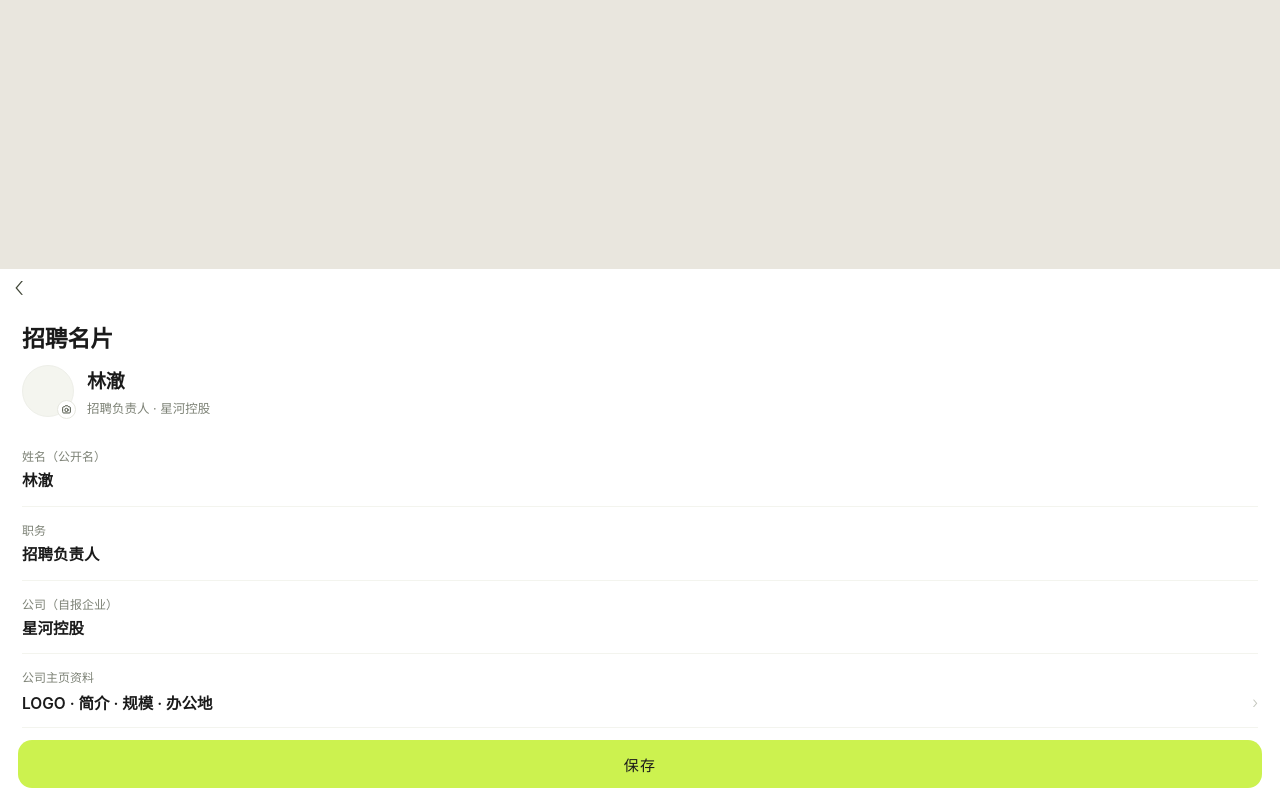
招聘名片 · Backend 诚实身份 › 保存一次携带 public_name、title 与自报 organization_ref，成功响应后才提示保存成功
(page scrolled)
Replace the text in the field named "姓名" with "新公开名" at (640, 481), box left=22, top=470, right=1258, bottom=492
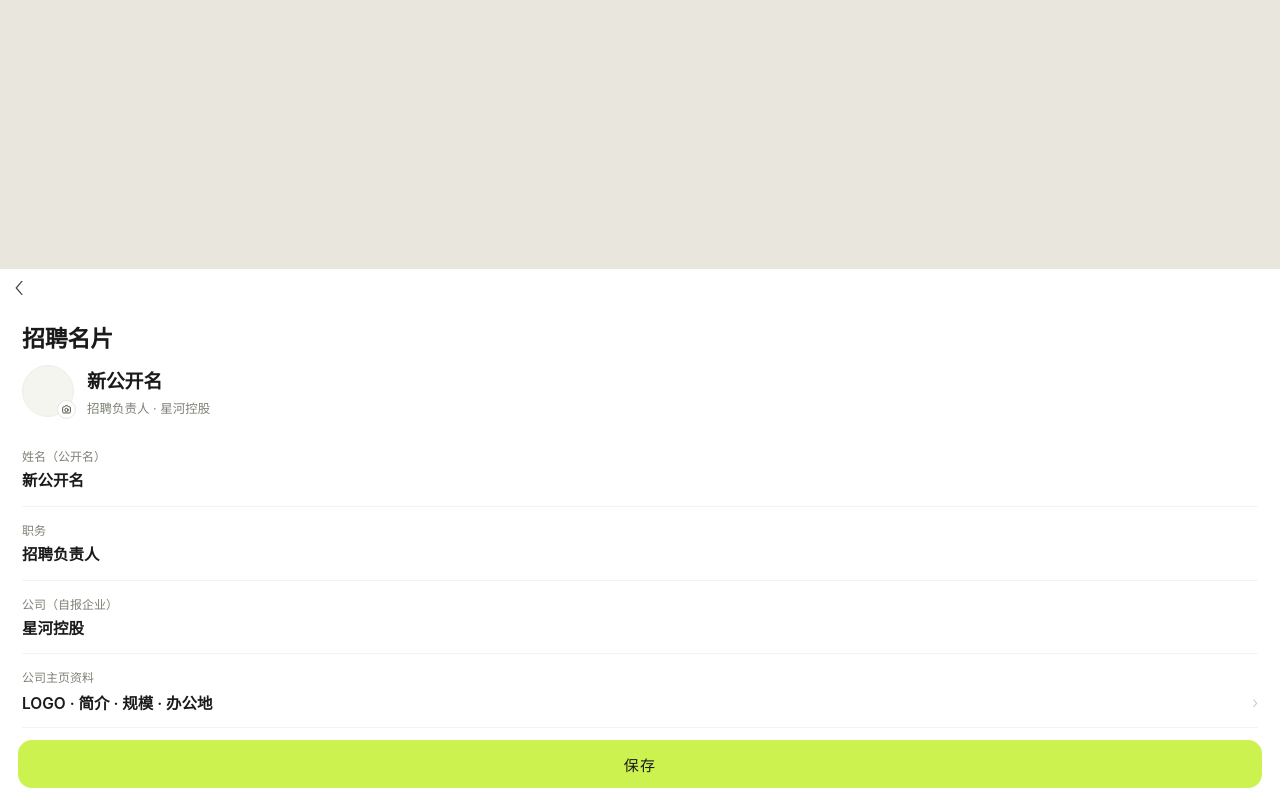
Clear the field named "职务" at (640, 555), box left=22, top=544, right=1258, bottom=566
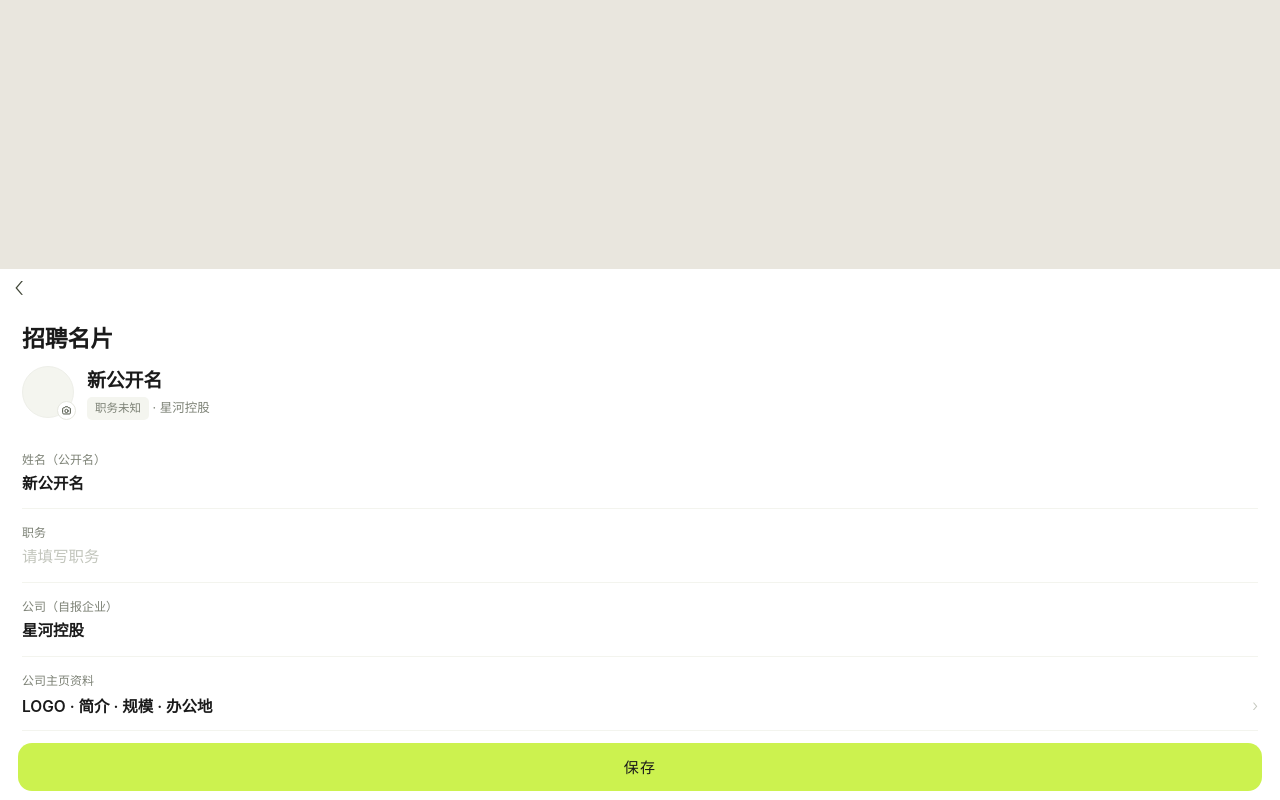
Type "技术合伙人" into the field labelled "职务" at (640, 557), box left=22, top=546, right=1258, bottom=568
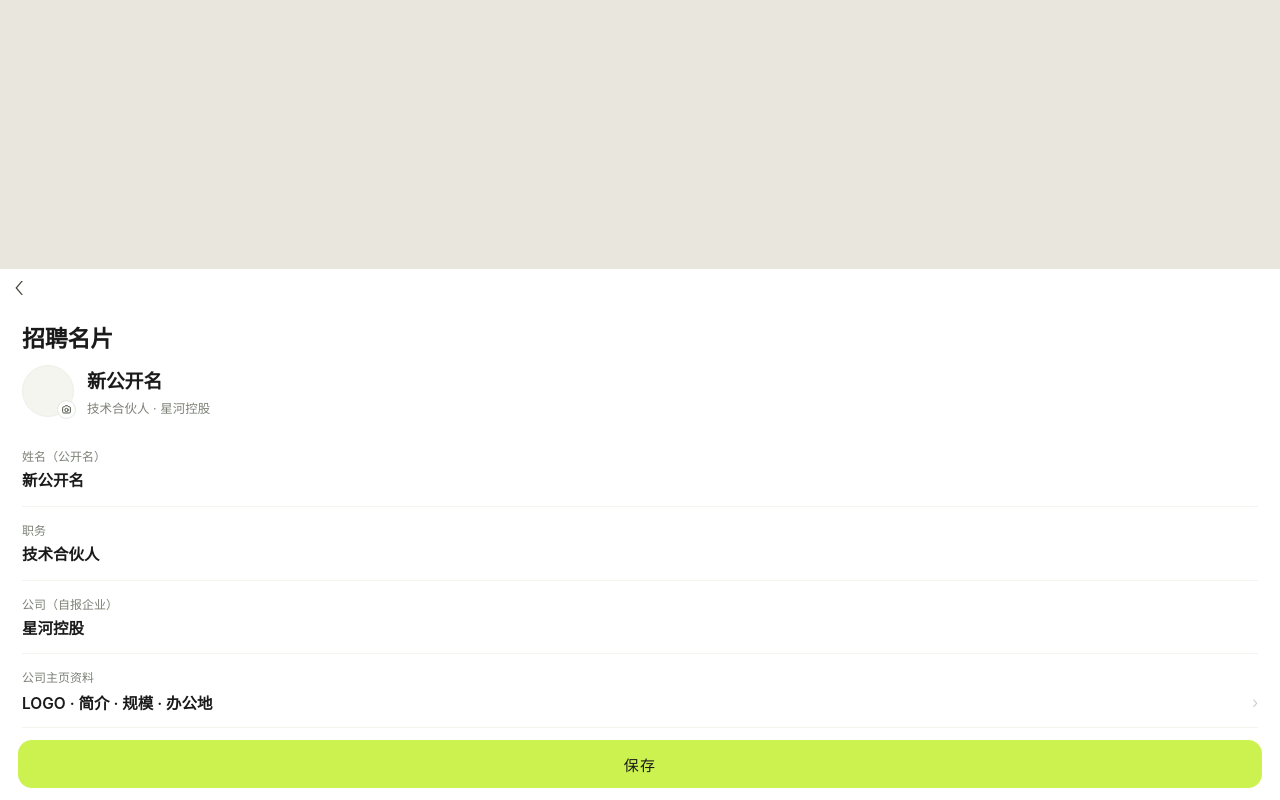
Click the button "保存" at (640, 764), box left=18, top=740, right=1262, bottom=788
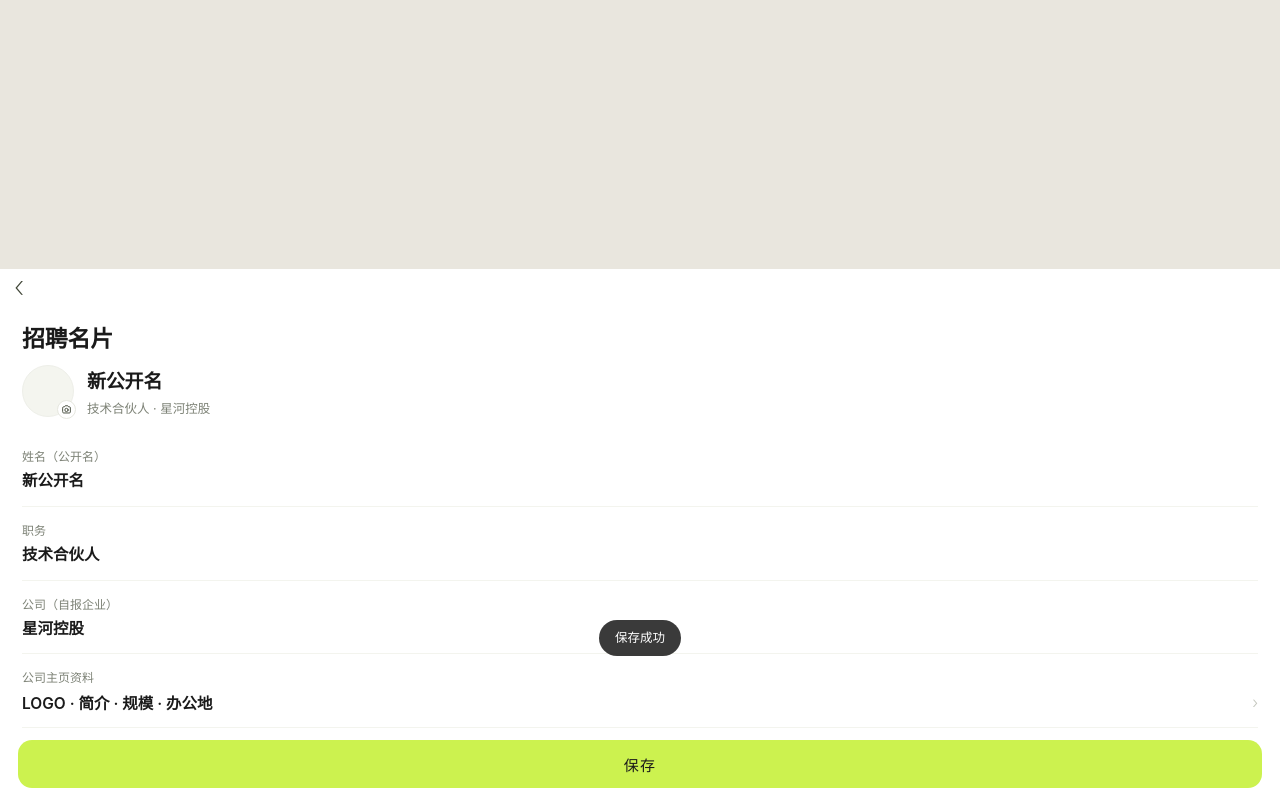
Now the text "保存成功" is shown, box left=599, top=620, right=681, bottom=656
